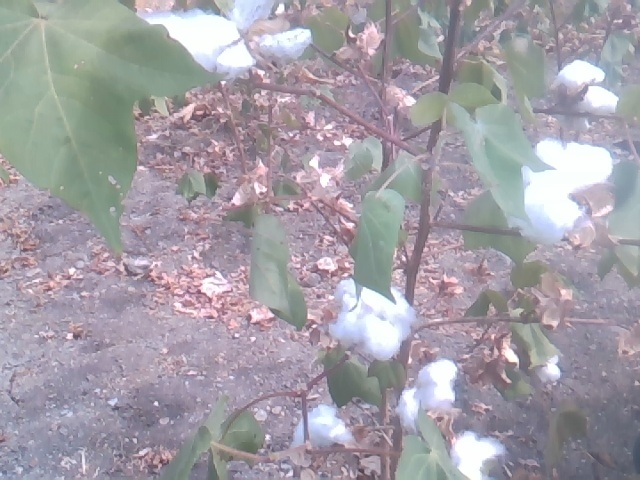cotton: (518, 131, 618, 244), (119, 9, 263, 84), (322, 274, 417, 357), (389, 357, 469, 435), (284, 401, 360, 453), (560, 63, 622, 121), (439, 432, 513, 478)
